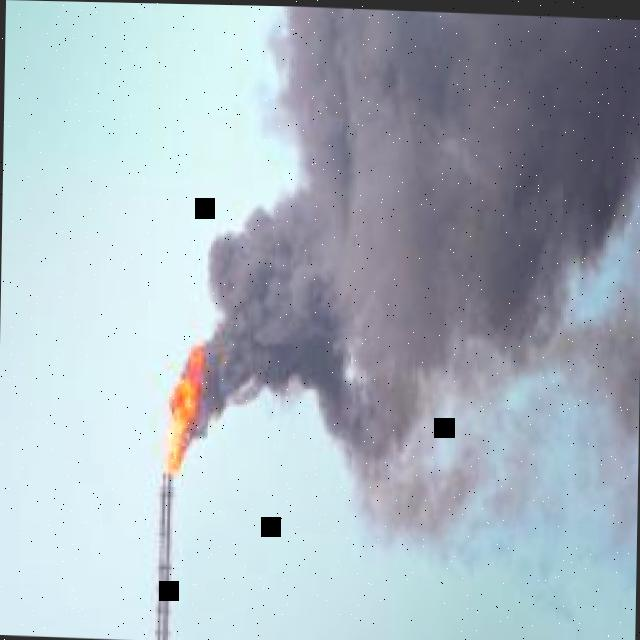fire: (166, 344, 205, 474)
smoke: (193, 5, 640, 560)
